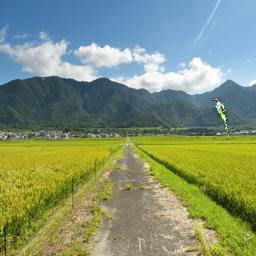Cuckoo: (212, 98, 229, 137)
